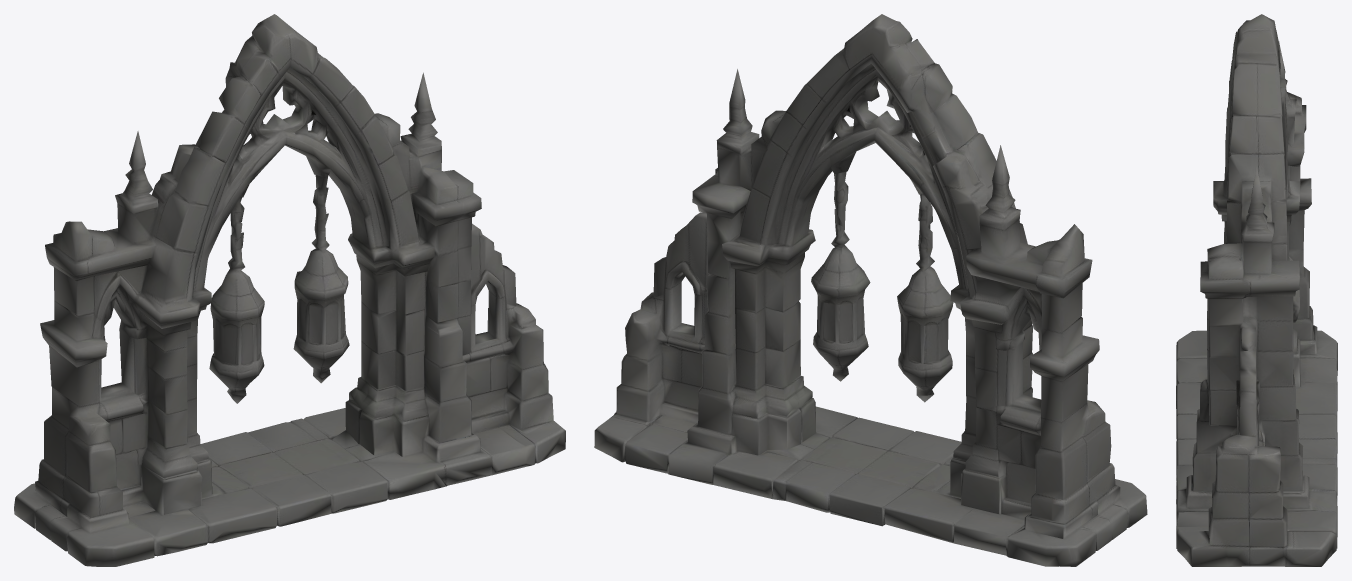
Rendered from terminus-flooded-threshold.glb.
3 views of the same model, side by side, from view 1: azimuth 30°, elevation 25°; view 2: azimuth 150°, elevation 25°; view 3: azimuth 270°, elevation 25° (orthographic). The views are drawn at different scales.
Visible parts, largest first — view 1: tripo_node_70a9bfcf-3d6d-4d82-bc7a-e100c8ff364b; view 2: tripo_node_70a9bfcf-3d6d-4d82-bc7a-e100c8ff364b; view 3: tripo_node_70a9bfcf-3d6d-4d82-bc7a-e100c8ff364b.
Boxes of the visible parts, box(x1,y1,x2,y2) form: tripo_node_70a9bfcf-3d6d-4d82-bc7a-e100c8ff364b: box(14, 14, 565, 566); tripo_node_70a9bfcf-3d6d-4d82-bc7a-e100c8ff364b: box(594, 14, 1147, 566); tripo_node_70a9bfcf-3d6d-4d82-bc7a-e100c8ff364b: box(1176, 14, 1337, 566).
Size of the model in its own units: 0.9805 by 0.9139 by 0.3065.
1 material, 1 textured.
